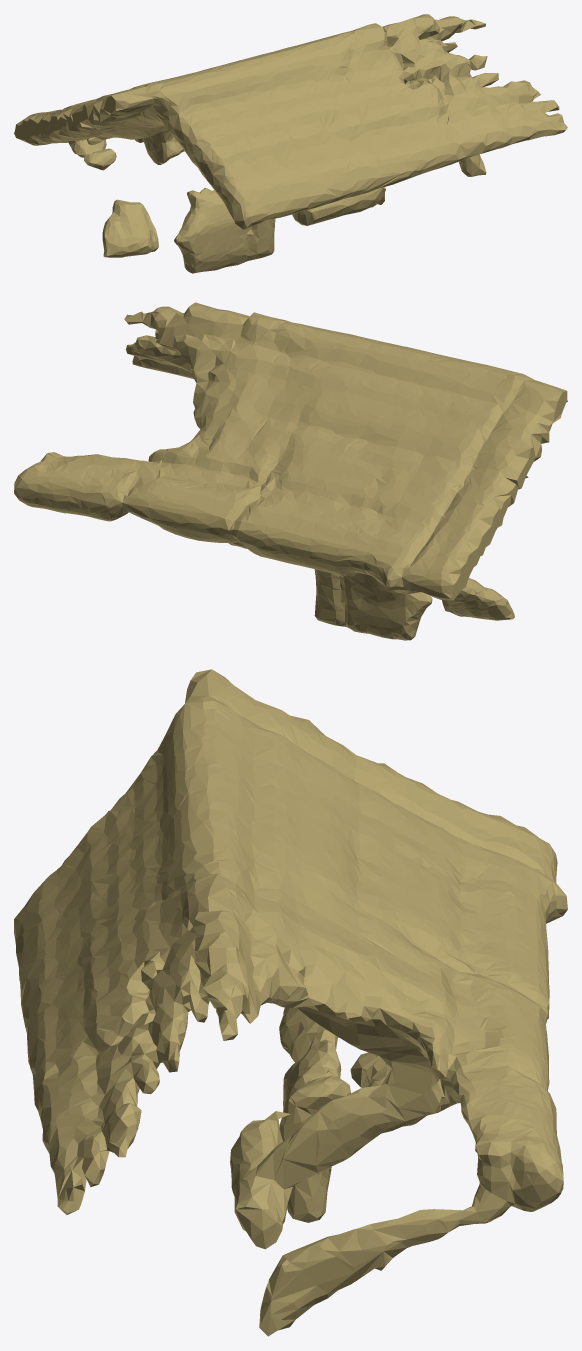
The model's file is improved.glb.
3 views of the same model, one above another, from view 1: azimuth 30°, elevation 25°; view 2: azimuth 150°, elevation 25°; view 3: azimuth 270°, elevation 25° (orthographic). The views are drawn at different scales.
Parts seen in each view (by area): view 1: world; view 2: world; view 3: world.
Boxes of the visible parts, box(x1,y1,x2,y2) form: world: box(14, 14, 567, 273); world: box(14, 302, 567, 640); world: box(14, 669, 567, 1336).
Size of the model in its own units: 1.5 by 0.7934 by 0.9759.
